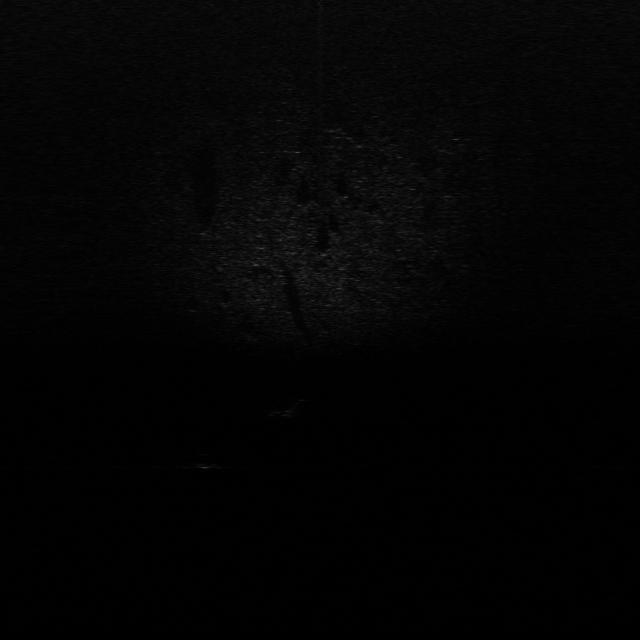ball: (192, 451, 219, 473)
human body: (268, 397, 308, 420)
